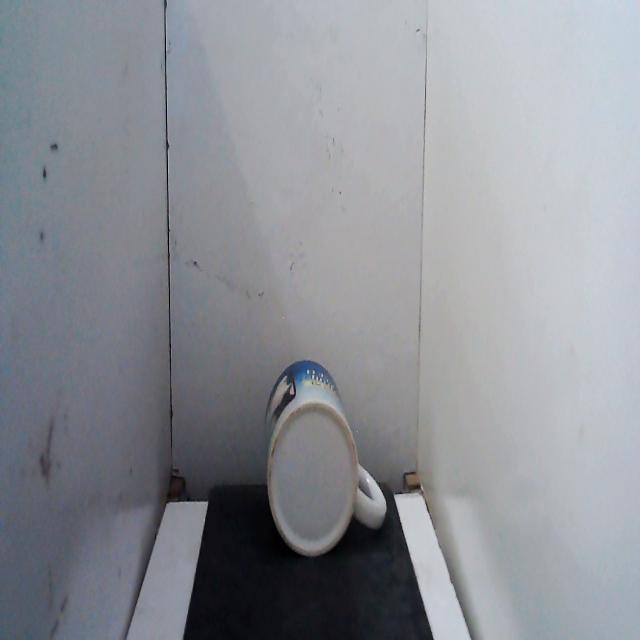vidro: (255, 351, 396, 573)
